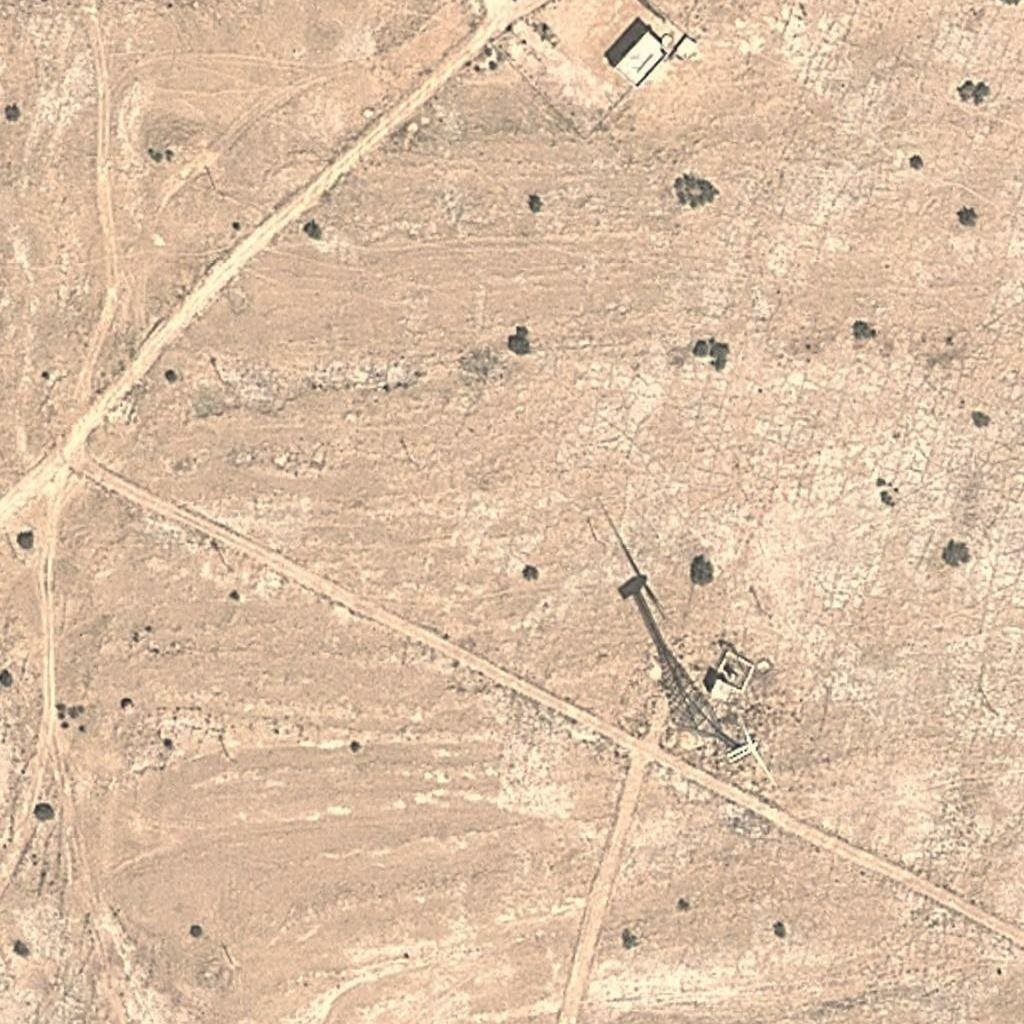Windmill: (592, 497, 738, 735)
